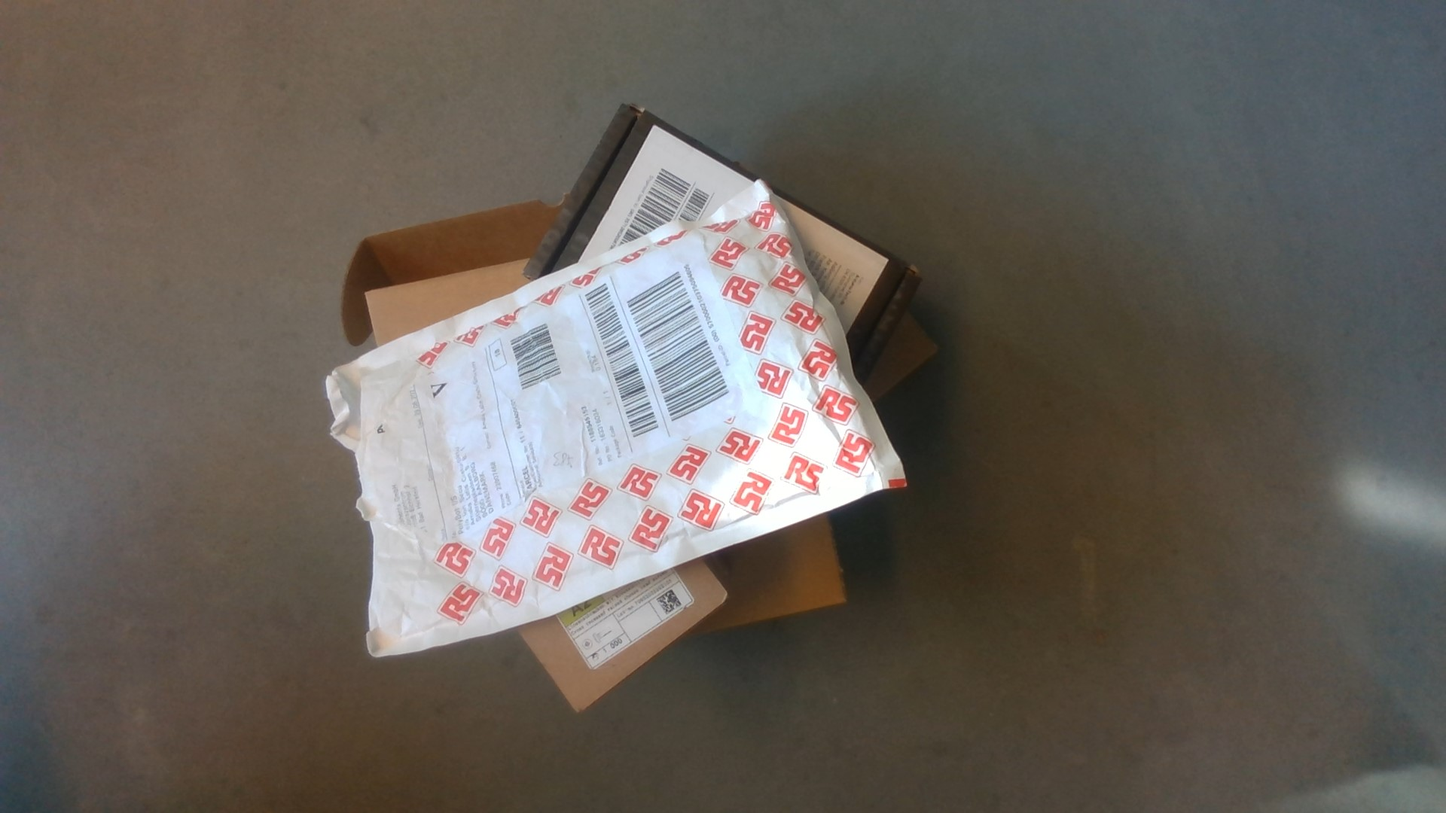Parcel: (325, 180, 911, 659)
